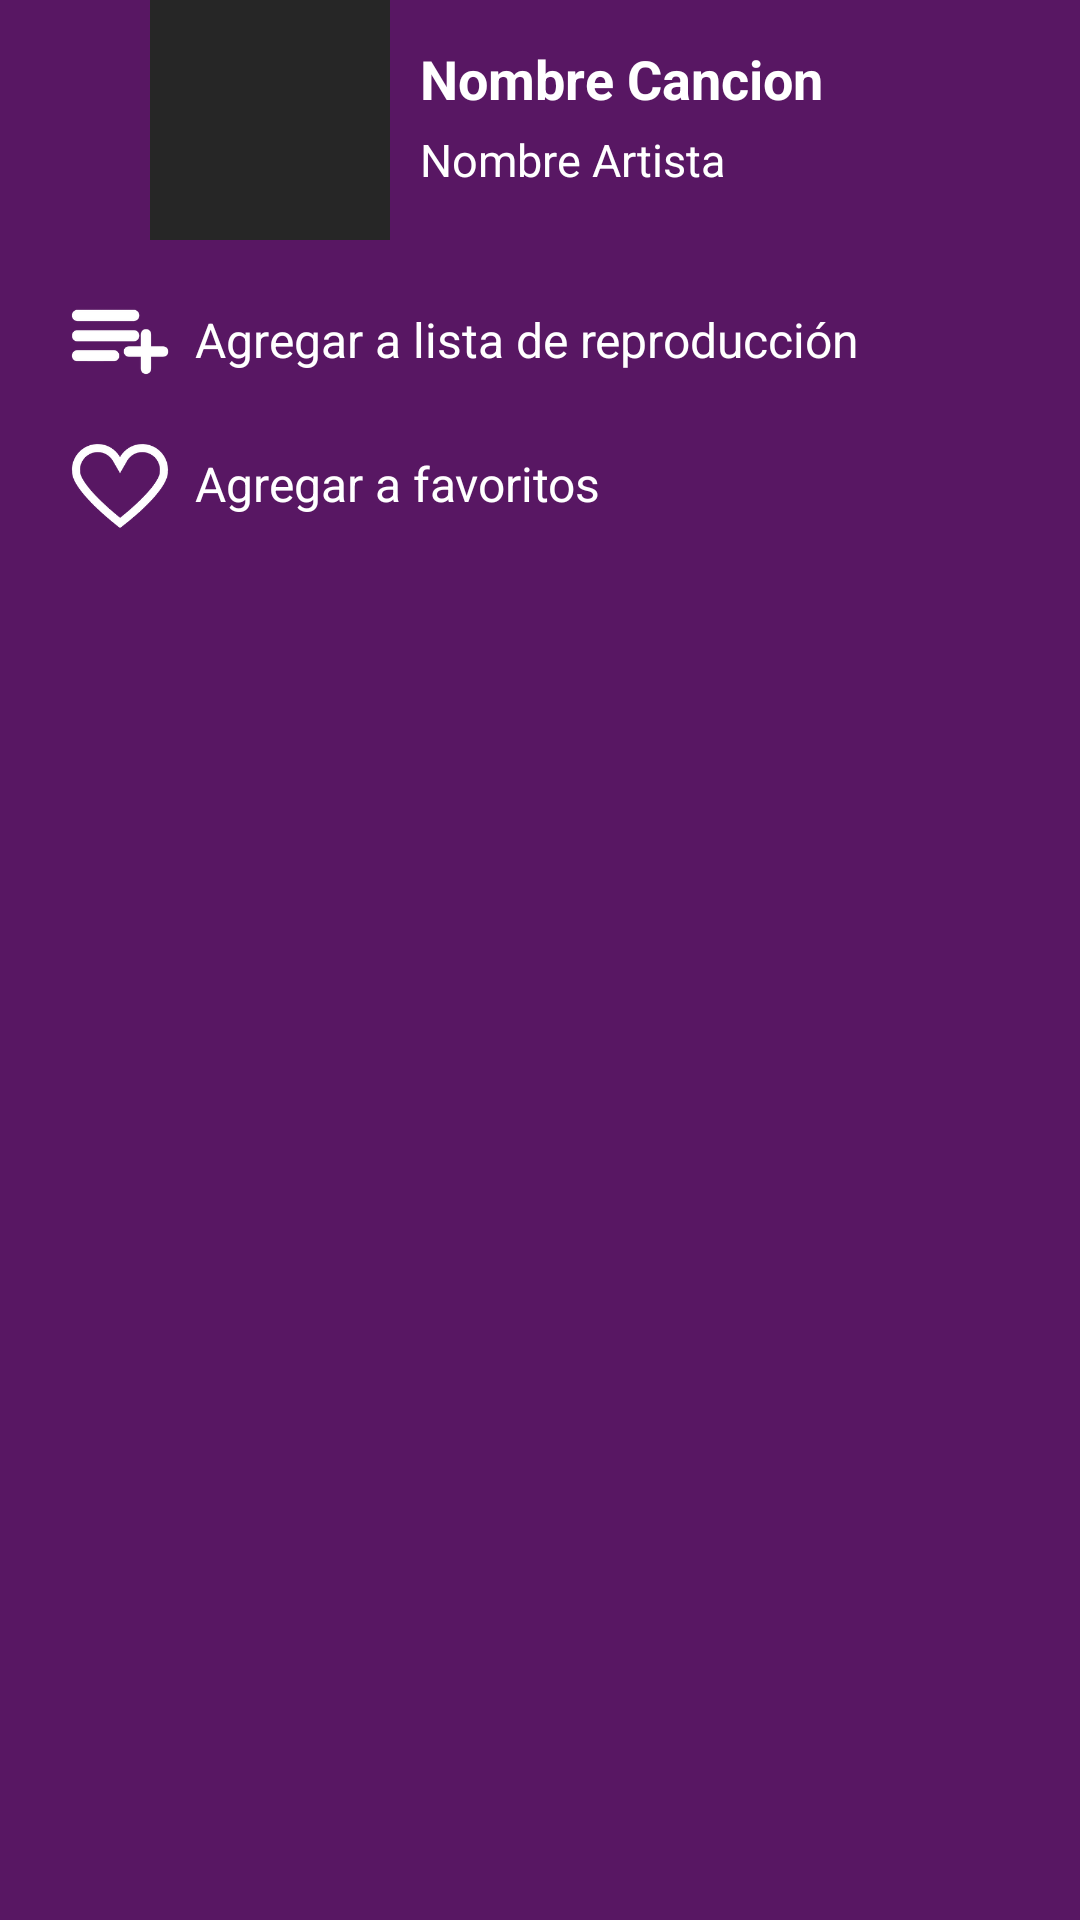

Where icons sit on this 1080*1920 app screen, as (x1, y1, x2, y2):
like: (72, 444, 168, 528)
playlist song: (72, 309, 169, 374)
